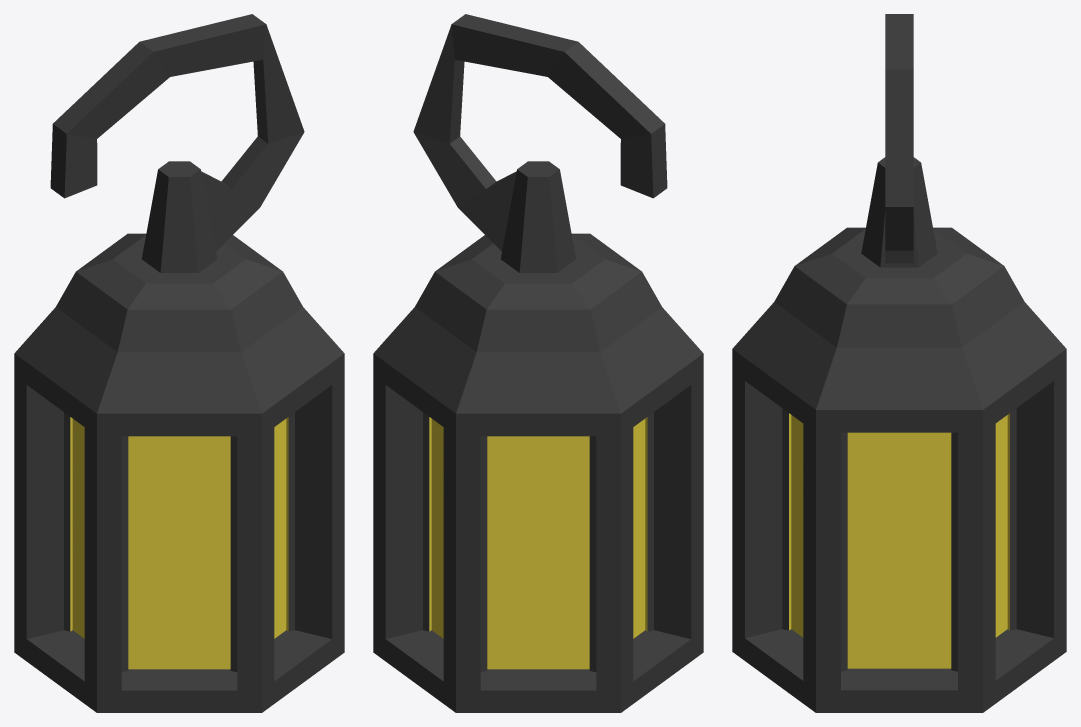
The model's file is Lantern_Decoration.fbx.
3 views of the same model, side by side, from view 1: azimuth 30°, elevation 25°; view 2: azimuth 150°, elevation 25°; view 3: azimuth 270°, elevation 25° (orthographic).
Visible parts, largest first — view 1: Cylinder; view 2: Cylinder; view 3: Cylinder.
Part boxes in pixels (bbox=[...]): Cylinder: bbox=[14, 14, 344, 712]; Cylinder: bbox=[373, 14, 703, 712]; Cylinder: bbox=[732, 14, 1066, 712].
Size of the model in its own units: 173 by 410 by 200.
